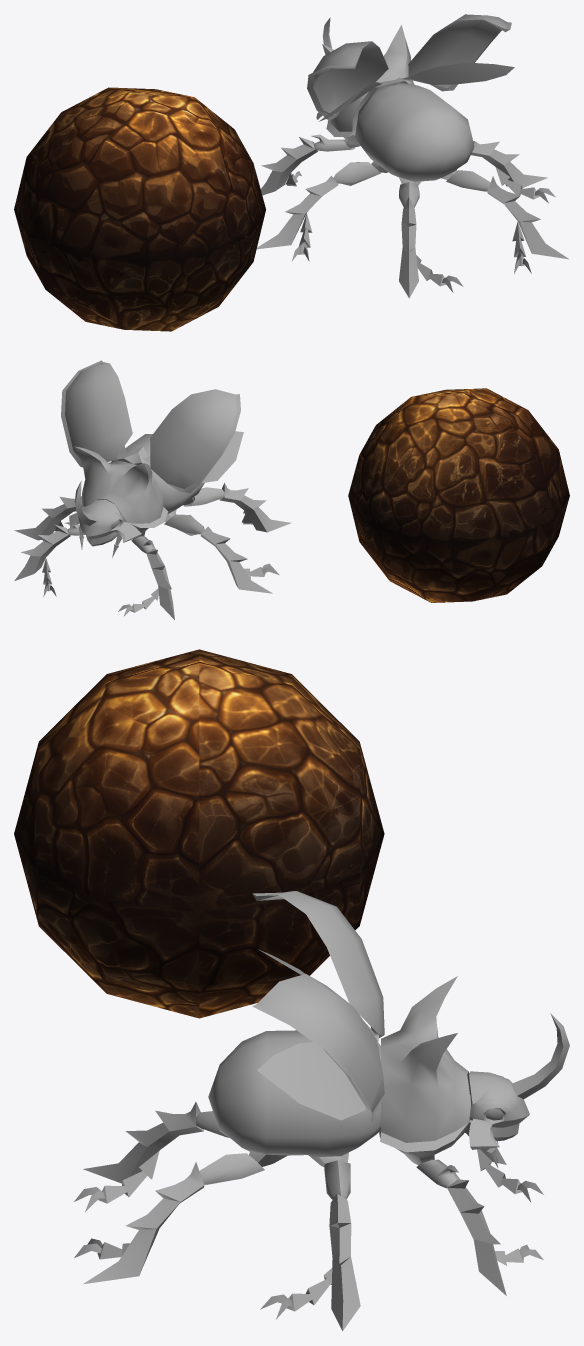
File: bug01.fbx
The picture shows the model from 3 angles, top to bottom: view 1: azimuth 30°, elevation 25°; view 2: azimuth 150°, elevation 25°; view 3: azimuth 270°, elevation 25°; orthographic projection. The views are drawn at different scales.
Parts seen in each view (by area): view 1: shere, body, polySurface121, polySurface141, polySurface142; view 2: shere, body, polySurface121, polySurface141, polySurface73; view 3: shere, body, polySurface141, polySurface121, polySurface142.
Part boxes in pixels (x1=…): shere: x1=14, y1=87, x2=265, y2=331; body: x1=256, y1=17, x2=568, y2=298; polySurface121: x1=307, y1=41, x2=388, y2=120; polySurface141: x1=408, y1=14, x2=511, y2=91; polySurface142: x1=402, y1=62, x2=514, y2=84; shere: x1=348, y1=388, x2=569, y2=602; body: x1=14, y1=434, x2=291, y2=619; polySurface121: x1=150, y1=389, x2=240, y2=493; polySurface141: x1=61, y1=360, x2=132, y2=467; polySurface73: x1=144, y1=431, x2=243, y2=483; shere: x1=14, y1=649, x2=384, y2=1018; body: x1=74, y1=976, x2=569, y2=1331; polySurface141: x1=252, y1=974, x2=384, y2=1121; polySurface121: x1=252, y1=891, x2=384, y2=1037; polySurface142: x1=257, y1=1042, x2=365, y2=1120.
Size of the model in its own units: 32.53 by 12.79 by 18.81.
Materials: 2 (1 with a texture image).
